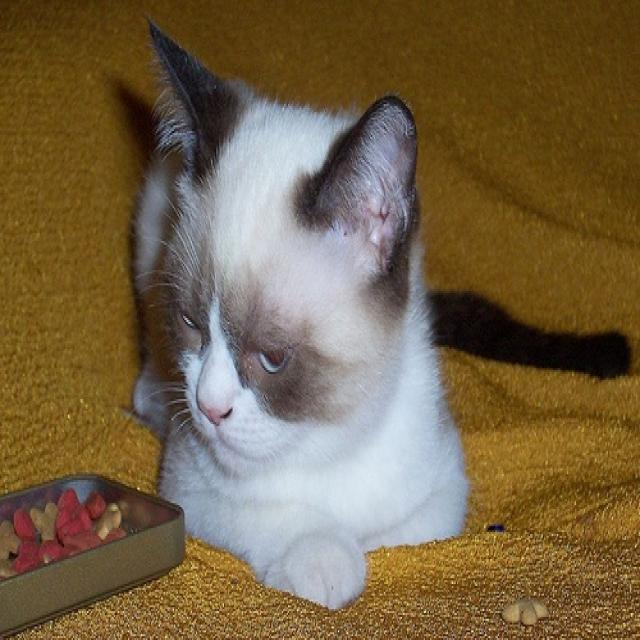cat: (133, 14, 469, 607)
